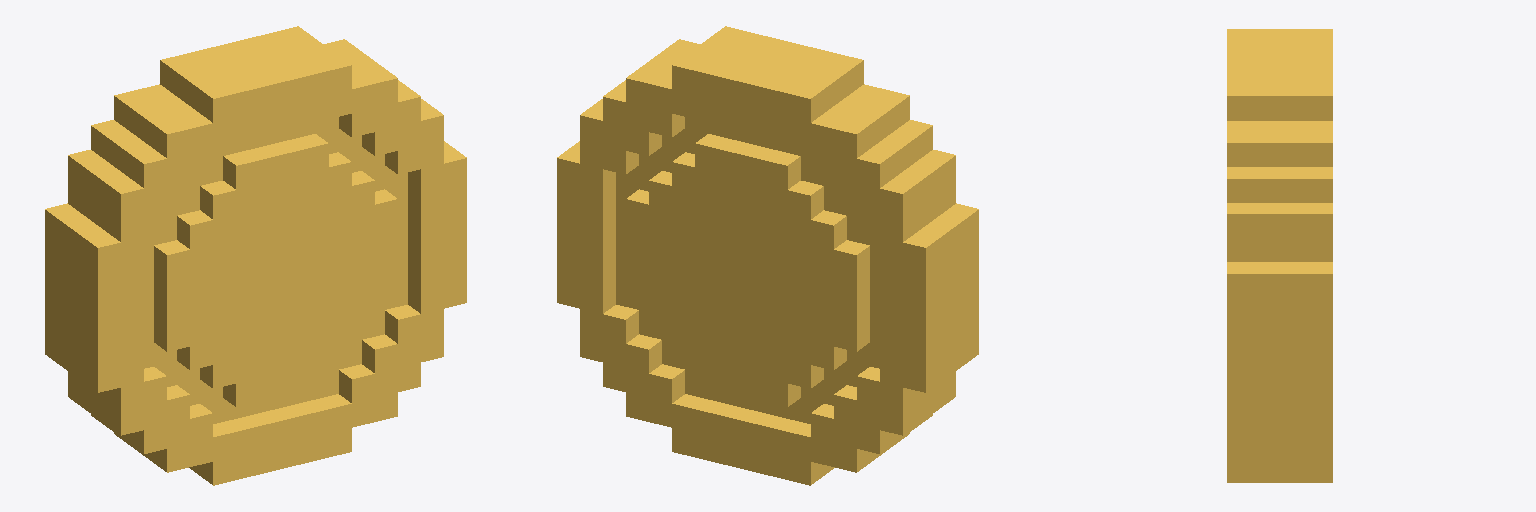
3 views of the same model, side by side, from view 1: azimuth 30°, elevation 25°; view 2: azimuth 150°, elevation 25°; view 3: azimuth 270°, elevation 25° (orthographic).
Visible parts, largest first — view 1: object 1; view 2: object 1; view 3: object 1.
Boxes of the visible parts, box(x1,y1,x2,y2) form: object 1: box(45, 26, 466, 485); object 1: box(557, 26, 978, 485); object 1: box(1227, 29, 1332, 482).
Size of the model in its own units: 1.6 by 1.6 by 0.4.
1 materials, 1 textured.